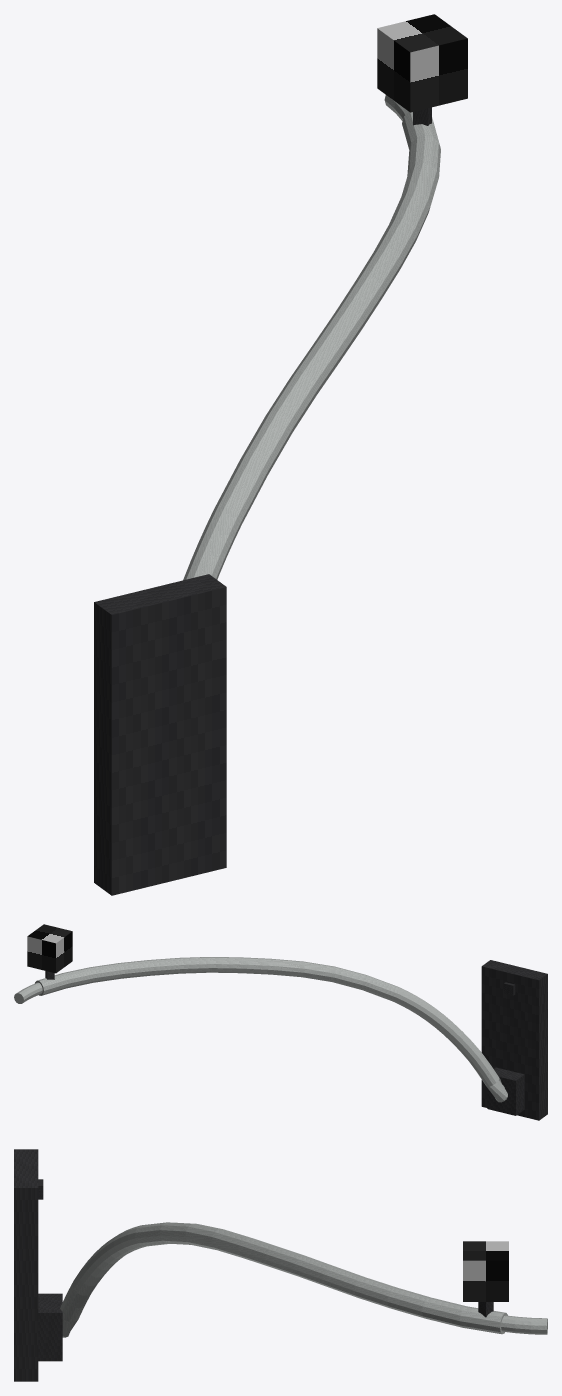
The model's file is arm_3_right.obj.
3 views of the same model, one above another, from view 1: azimuth 30°, elevation 25°; view 2: azimuth 150°, elevation 25°; view 3: azimuth 270°, elevation 25° (orthographic). The views are drawn at different scales.
Visible parts, largest first — view 1: pole_light_mount_3_right; view 2: pole_light_mount_3_right; view 3: pole_light_mount_3_right.
Boxes of the visible parts, x1,y1,x2,y2 form: pole_light_mount_3_right: (94, 14, 467, 895); pole_light_mount_3_right: (14, 924, 547, 1120); pole_light_mount_3_right: (14, 1149, 547, 1381).
Size of the model in its own units: 2.22 by 1.41 by 2.19.
